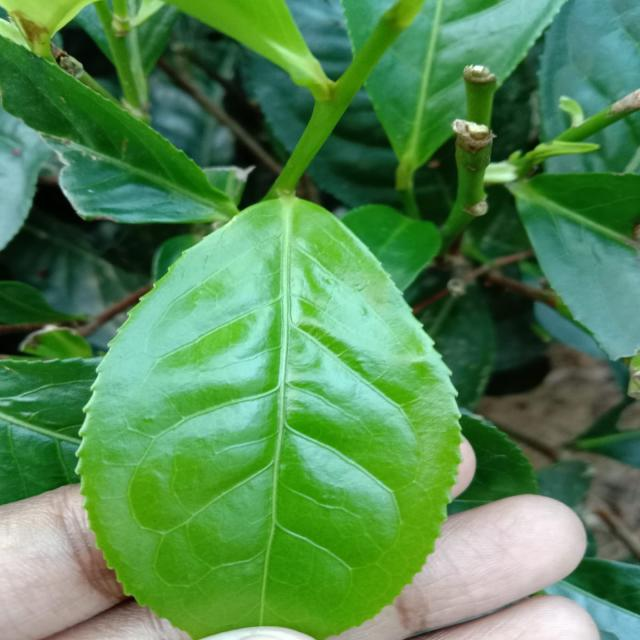Category C(4-7 days): (59, 167, 472, 640)
